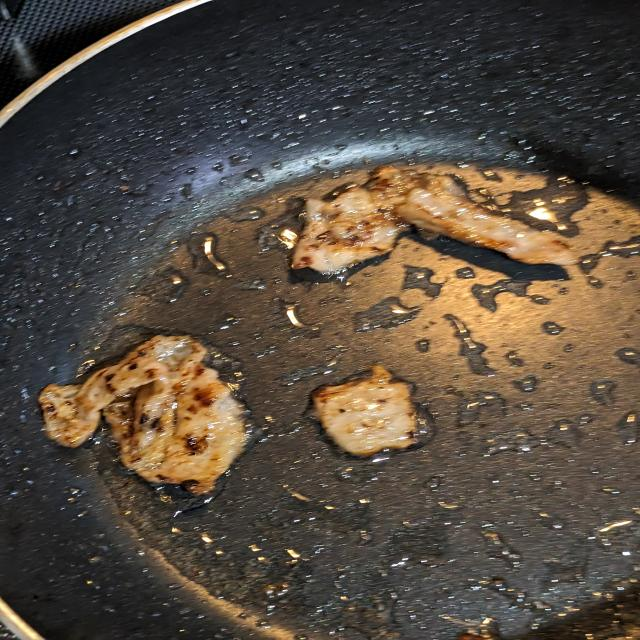OK cooked pork,: (280, 156, 591, 295), (31, 327, 269, 494), (300, 357, 430, 464)
